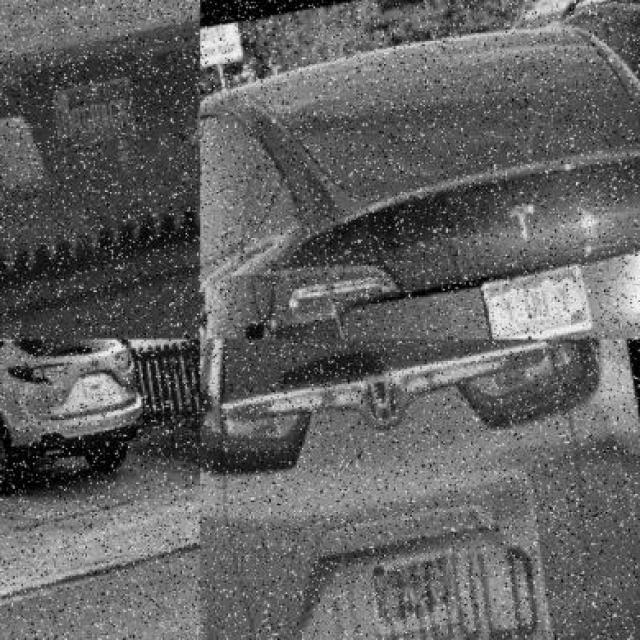licenseplate: (478, 262, 592, 352), (366, 549, 454, 640), (50, 77, 136, 153), (81, 375, 107, 398)
